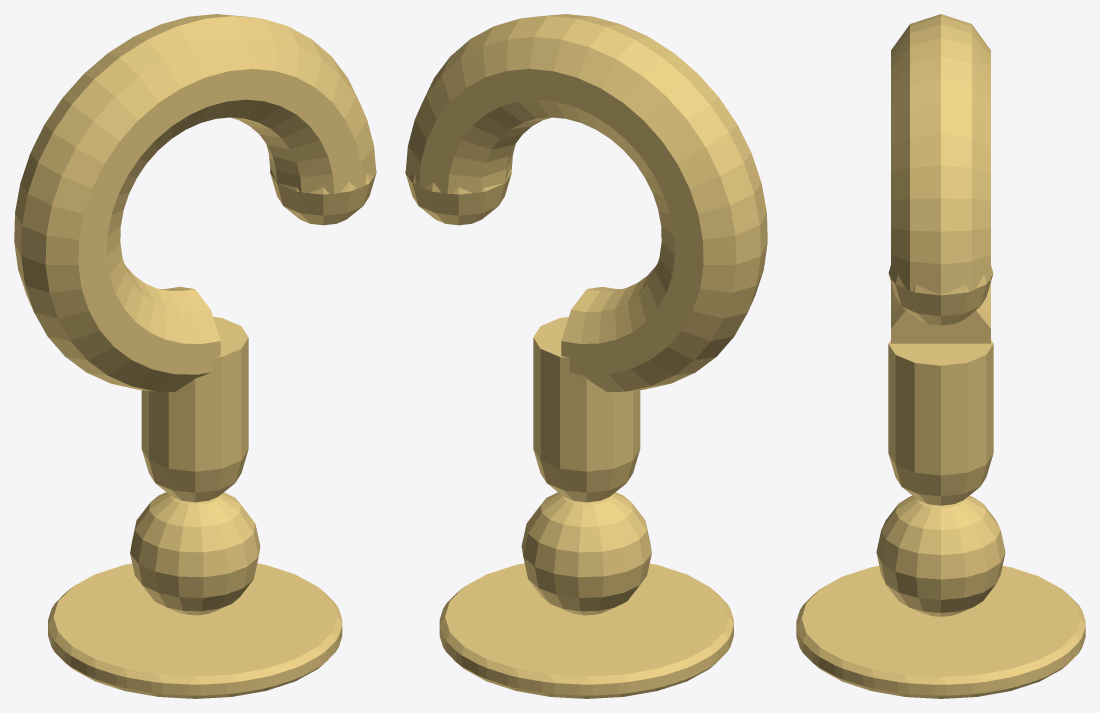
The model's file is Question.fbx.
3 renders of one model, left to right at view 1: azimuth 30°, elevation 25°; view 2: azimuth 150°, elevation 25°; view 3: azimuth 270°, elevation 25°, orthographic.
Visible parts, largest first — view 1: Body; view 2: Body; view 3: Body.
Part boxes in pixels (box(x1,y1,x2,y2)): Body: box(14, 14, 376, 698); Body: box(405, 14, 767, 698); Body: box(796, 14, 1085, 698).
Bounding box in the file's own units: 0.9792 × 1.66 × 0.7161.
